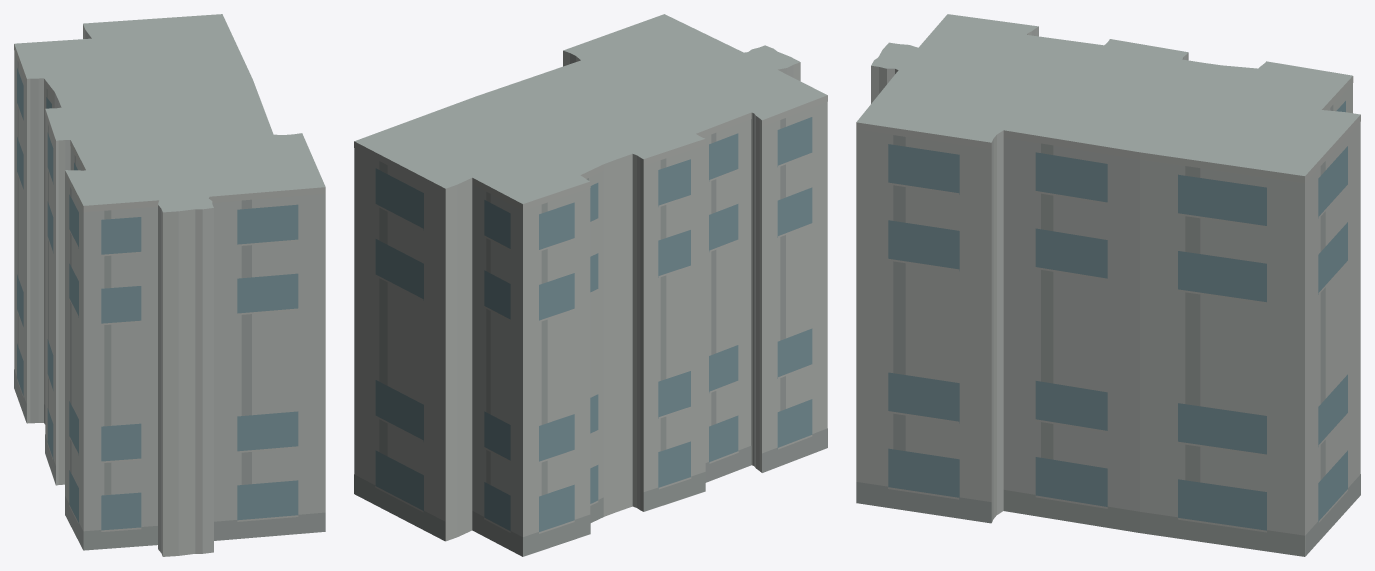
The model's file is survey-upis-32934801.glb.
3 renders of one model, left to right at view 1: azimuth 30°, elevation 25°; view 2: azimuth 150°, elevation 25°; view 3: azimuth 270°, elevation 25°, orthographic. The views are drawn at different scales.
Visible parts, largest first — view 1: survey-upis-32934801.tmp; view 2: survey-upis-32934801.tmp; view 3: survey-upis-32934801.tmp.
Part boxes in pixels (left/top/right/bottom): survey-upis-32934801.tmp: left=14, top=14, right=325, bottom=556; survey-upis-32934801.tmp: left=354, top=14, right=827, bottom=556; survey-upis-32934801.tmp: left=856, top=14, right=1360, bottom=556.
Size of the model in its own units: 11.89 by 13 by 15.63.
